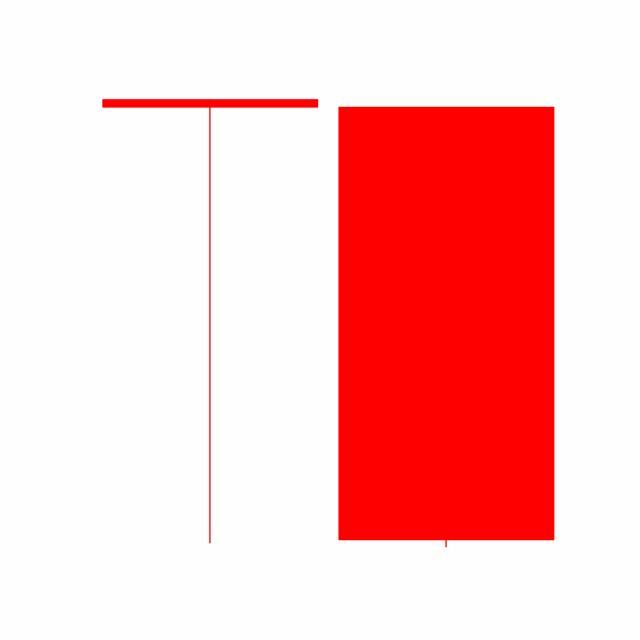Marubozu: (328, 103, 566, 553)
